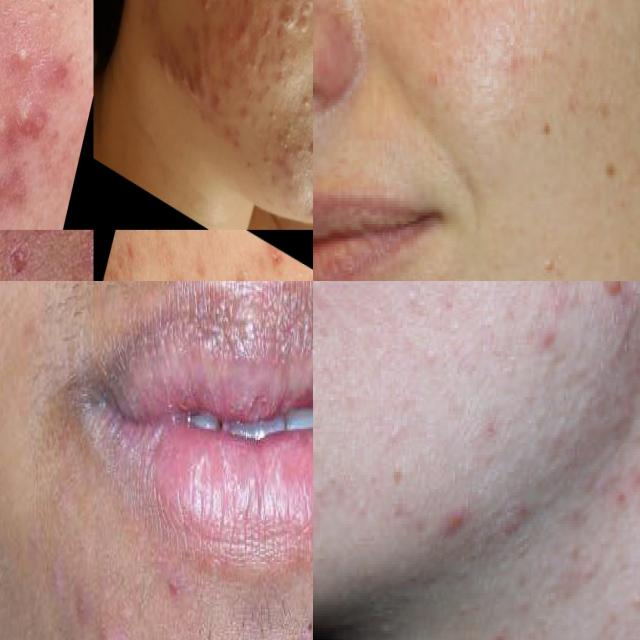comedone: (240, 46, 262, 78), (265, 97, 283, 131), (280, 112, 298, 144), (298, 94, 313, 122), (276, 135, 292, 157)
papule: (218, 2, 252, 60), (268, 39, 300, 93), (271, 0, 298, 41), (219, 127, 243, 154), (256, 13, 274, 44), (208, 88, 223, 111), (306, 193, 313, 229), (240, 0, 265, 9)
pustule: (9, 35, 33, 89)
sebo-crystan-conglo: (13, 90, 58, 156), (174, 56, 214, 107), (197, 0, 232, 26), (293, 7, 313, 45), (296, 0, 313, 20)
